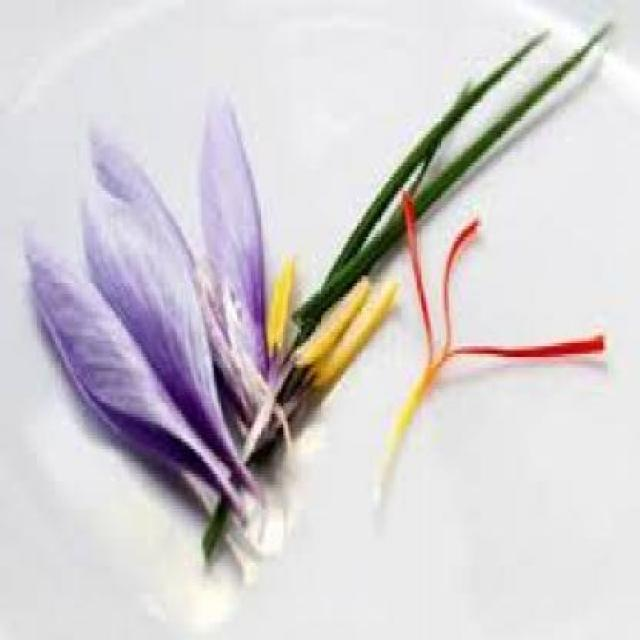Flower: (73, 87, 270, 490), (12, 215, 260, 516)
stigma: (399, 186, 436, 360), (467, 330, 610, 366)
